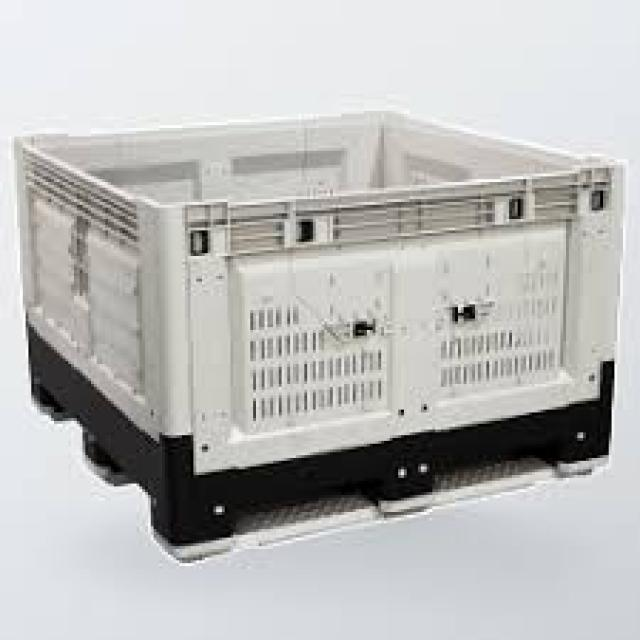basket: (18, 97, 639, 553)
